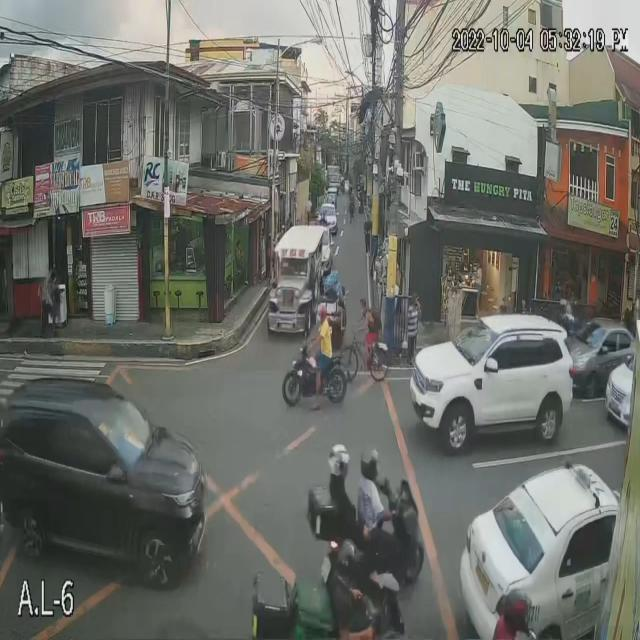full: (501, 586, 531, 640), (328, 442, 352, 485), (360, 446, 382, 485)
half: (317, 303, 329, 321)
